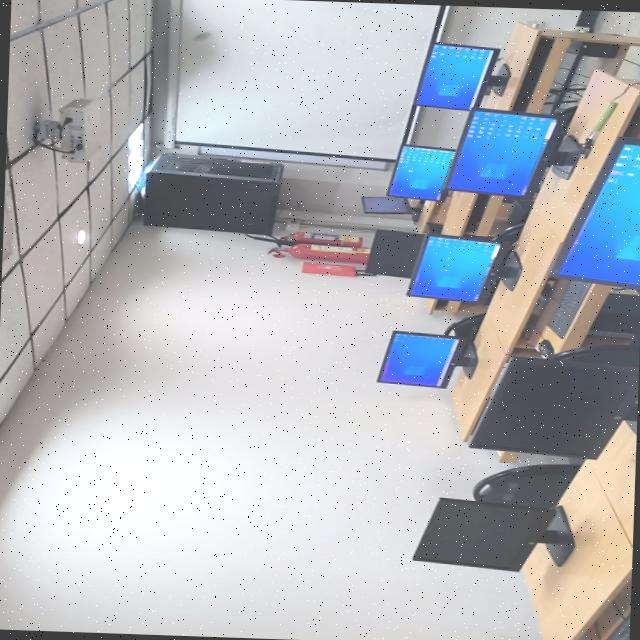Chair: (473, 462, 580, 506), (541, 343, 639, 366), (444, 313, 484, 338)
Fire Extinguisher: (272, 242, 369, 263), (283, 230, 362, 245)
Keyboard: (511, 37, 553, 110), (547, 280, 590, 337), (466, 194, 489, 231)
Light: (127, 121, 144, 190), (76, 228, 88, 243)
Monitor: (468, 356, 639, 458), (557, 138, 640, 284), (412, 496, 574, 570), (447, 109, 556, 194), (414, 41, 508, 109), (408, 235, 500, 299), (377, 329, 477, 387), (386, 144, 454, 199), (366, 228, 425, 277), (361, 194, 422, 220)
Mouse: (536, 338, 554, 356)
Projector: (46, 97, 108, 162), (39, 119, 51, 139)
